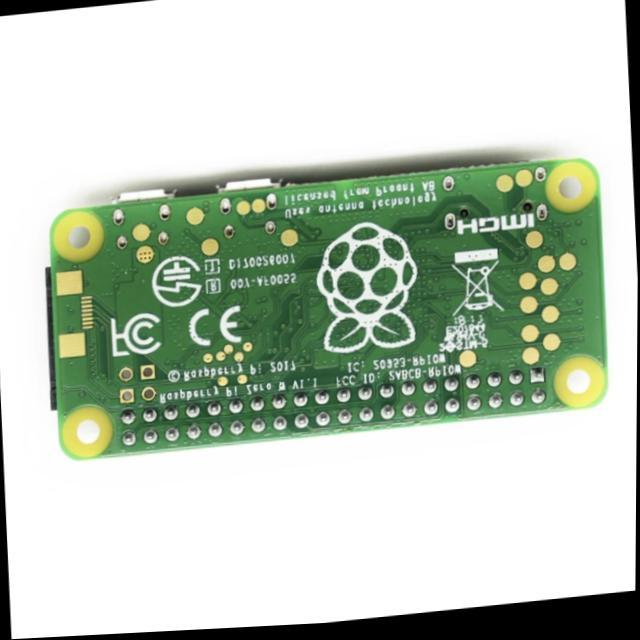Raspberry-Pi-Zero-WH: (49, 160, 607, 459)
